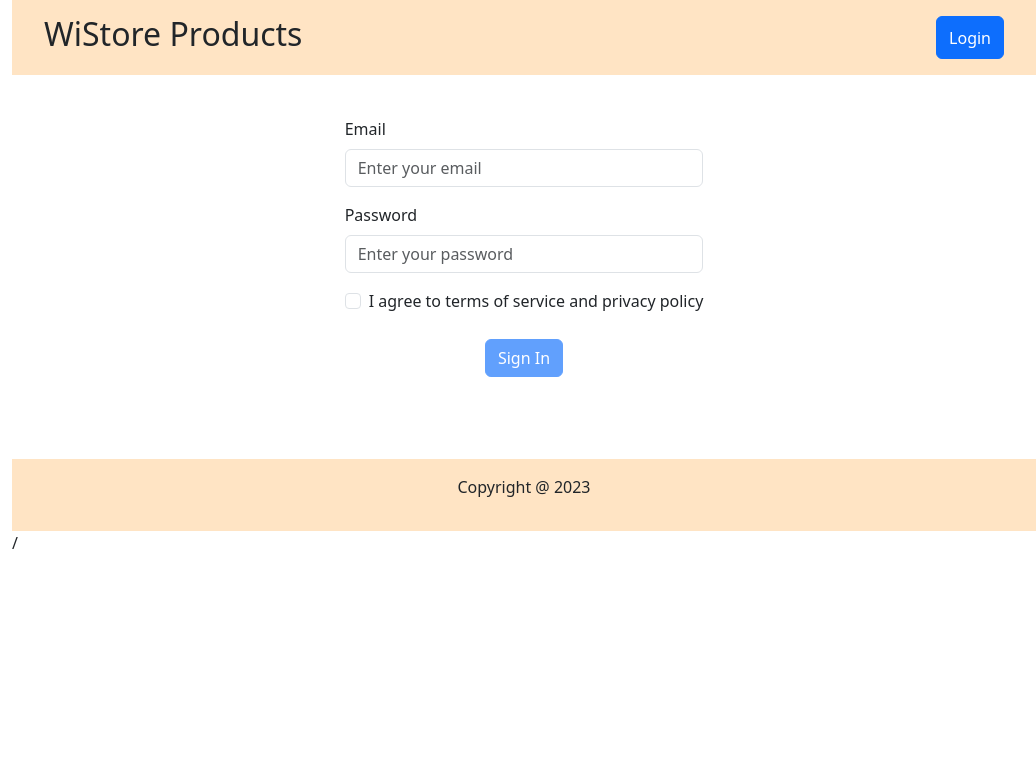
Scenario: login test › Hatalı durumlarda beklenen hata mesajları görünüyor ve buton disabled kalıyor › email ve password yanlış girilince verilen errorlar
Type "asdfasg.com" into the field with test id "email" at (525, 168), box 345,149 -> 704,187
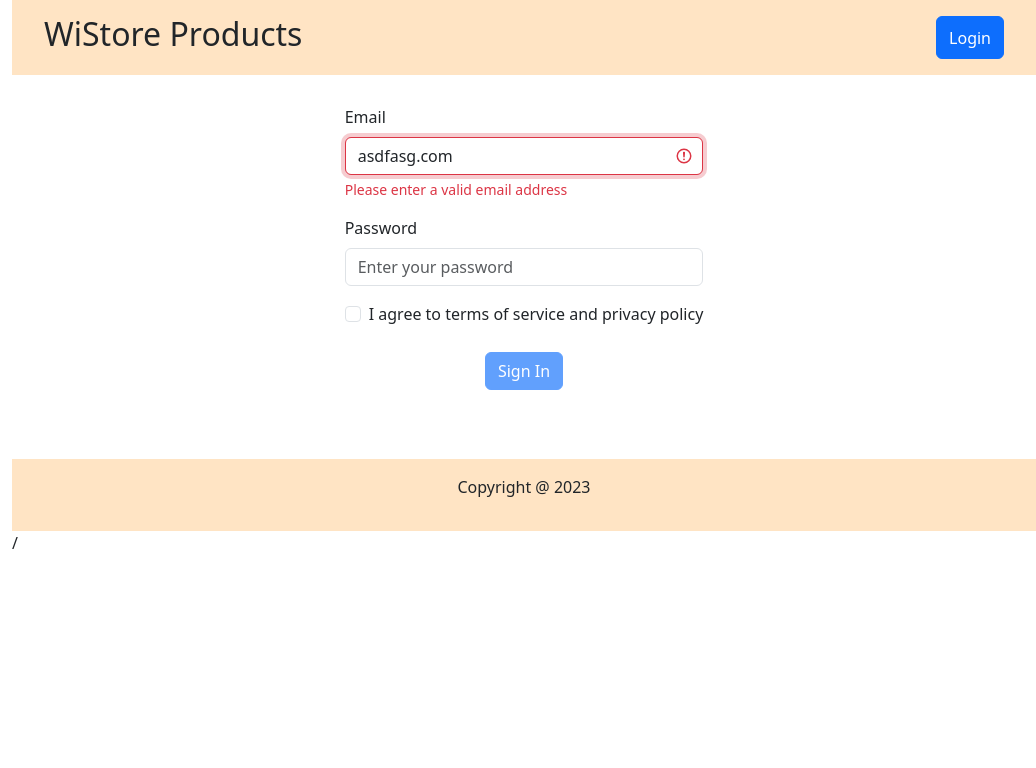
Result: the text "Please enter a valid email address" is shown at 345,180 -> 567,199
Result: the text with test id "emailerror" reads "Please enter a valid email address" at 345,180 -> 568,199
Type "123" into the password field with test id "password" at (525, 267), box 345,248 -> 704,286
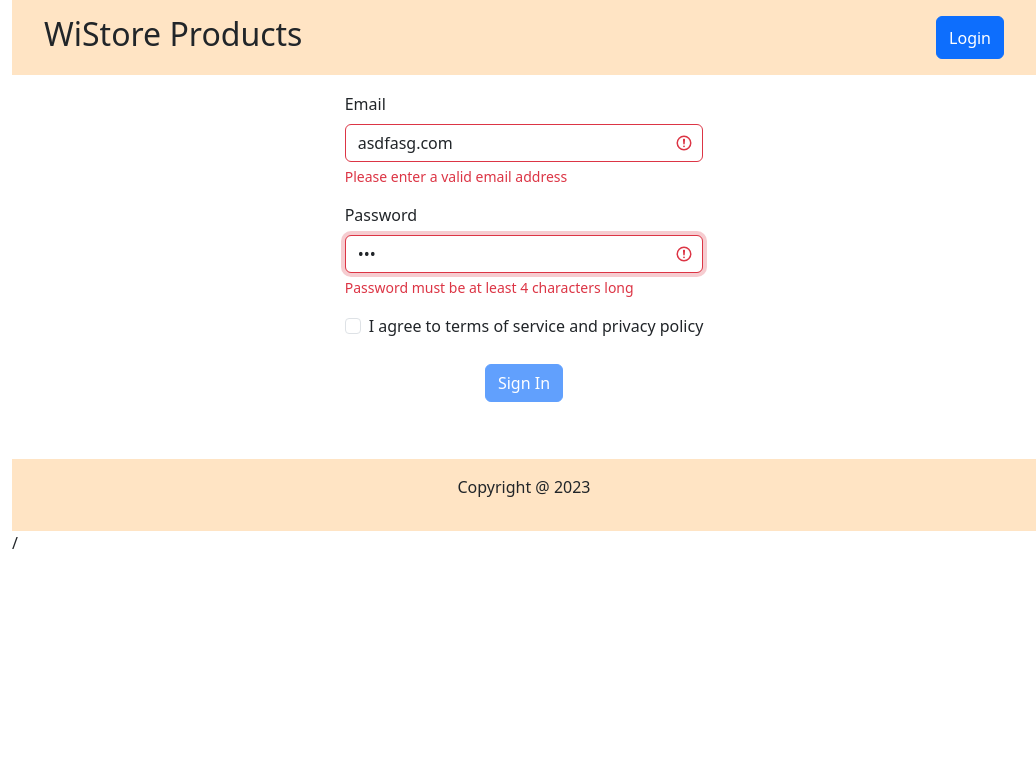
Expected: the button with test id "signin" is disabled, 485,364 -> 563,402
Result: the text with test id "passworderror" reads "Password must be at least 4 characters long" at 345,278 -> 634,297
